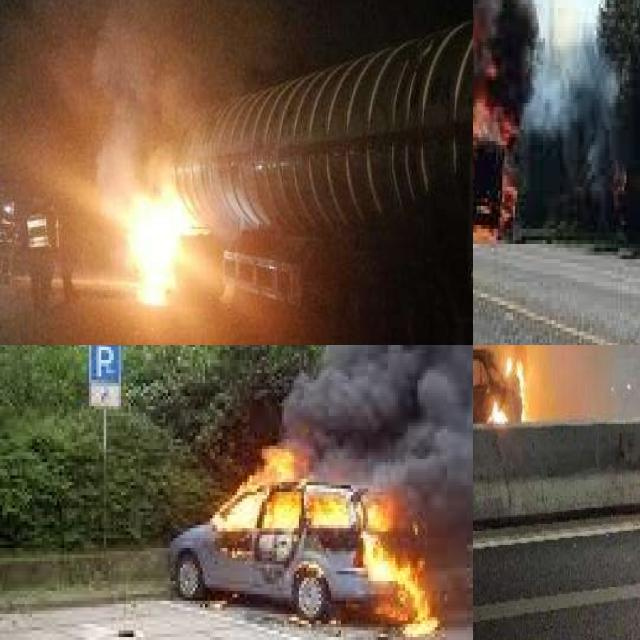fire: (333, 472, 454, 640), (208, 423, 324, 538), (473, 19, 526, 259), (128, 176, 194, 306), (481, 345, 534, 432)
smoke: (21, 0, 283, 207), (286, 345, 473, 515), (473, 345, 640, 429), (473, 0, 590, 118)
